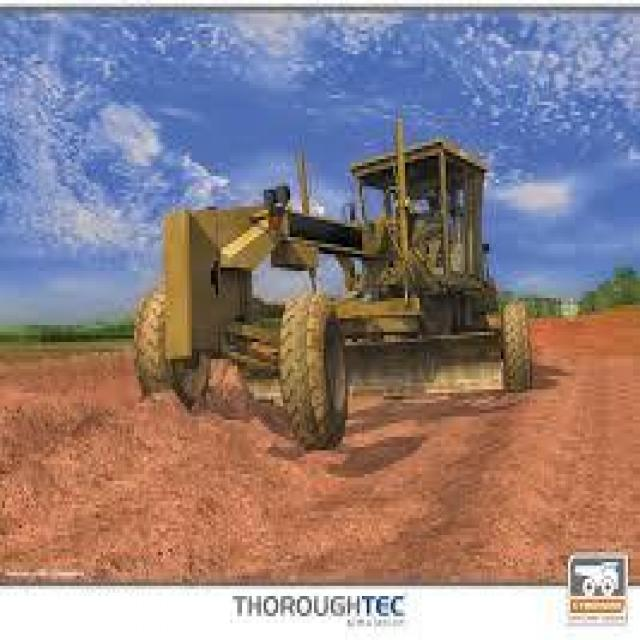Grader: (132, 108, 561, 484)
